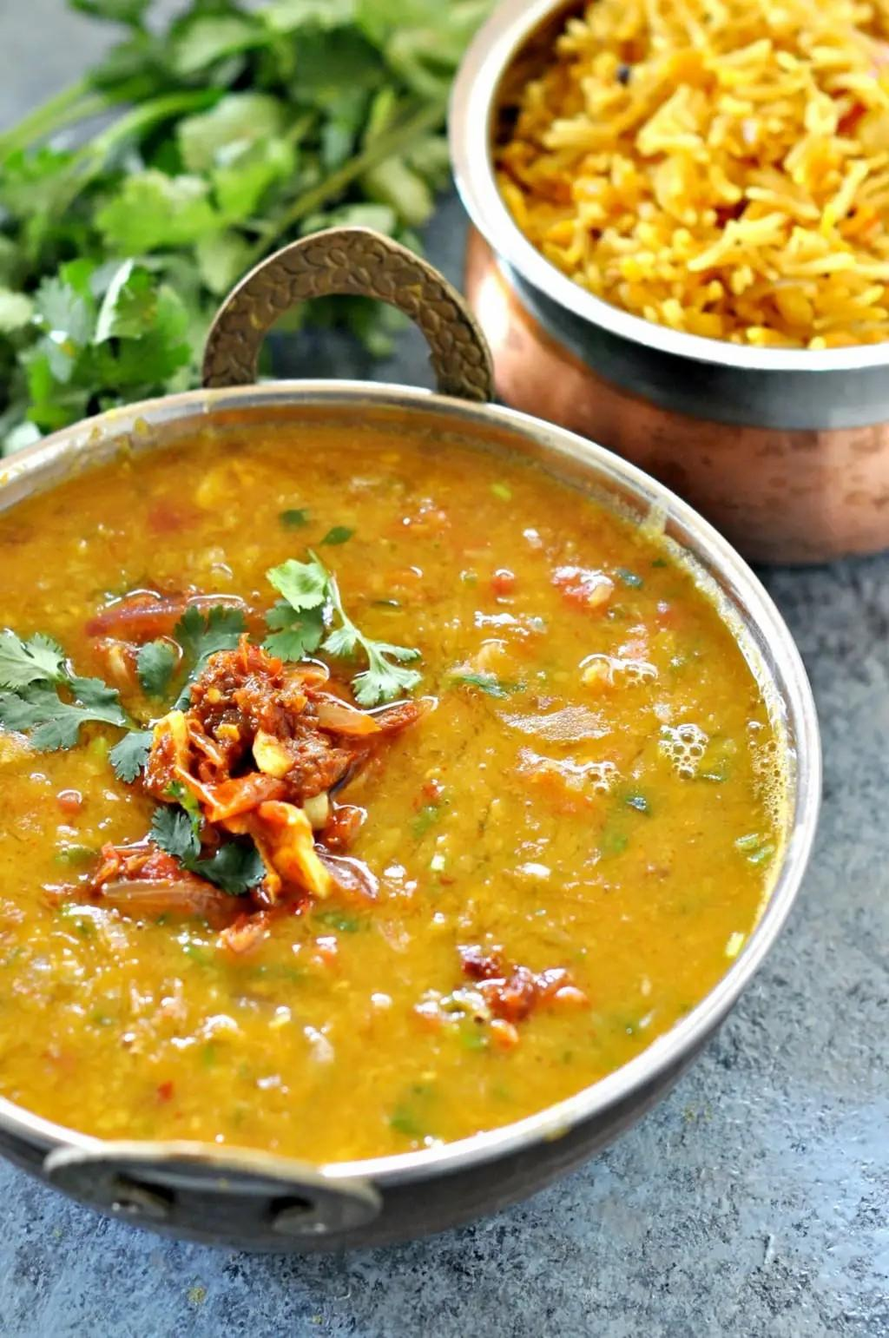Dal: (0, 406, 785, 1137)
